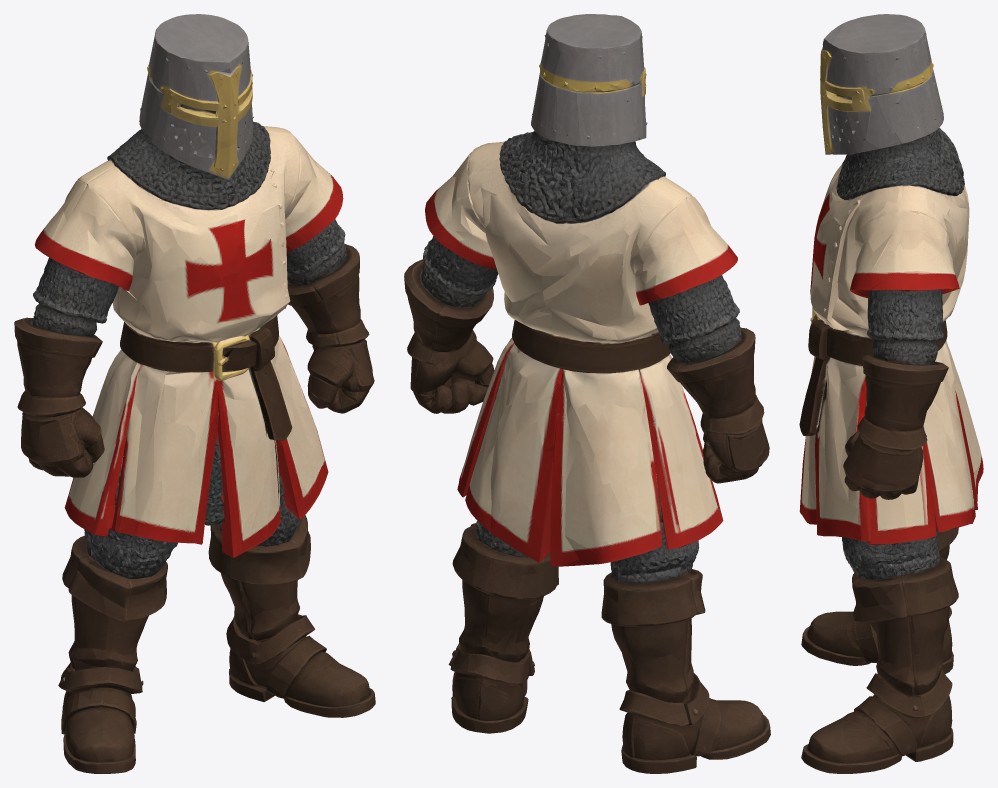
The model's file is Meshy_AI_Crusader_Knight_Leath_1104031808_texture.glb.
3 views of the same model, side by side, from view 1: azimuth 30°, elevation 25°; view 2: azimuth 150°, elevation 25°; view 3: azimuth 270°, elevation 25° (orthographic). The views are drawn at different scales.
Parts seen in each view (by area): view 1: output_unwrapped; view 2: output_unwrapped; view 3: output_unwrapped.
Boxes of the visible parts, x1,y1,x2,y2 form: output_unwrapped: (14,14,375,773); output_unwrapped: (404,14,770,773); output_unwrapped: (799,14,983,773).
Bounding box in the file's own units: 0.9846 × 1.9 × 0.4701.
Materials: 1 (1 with a texture image).
